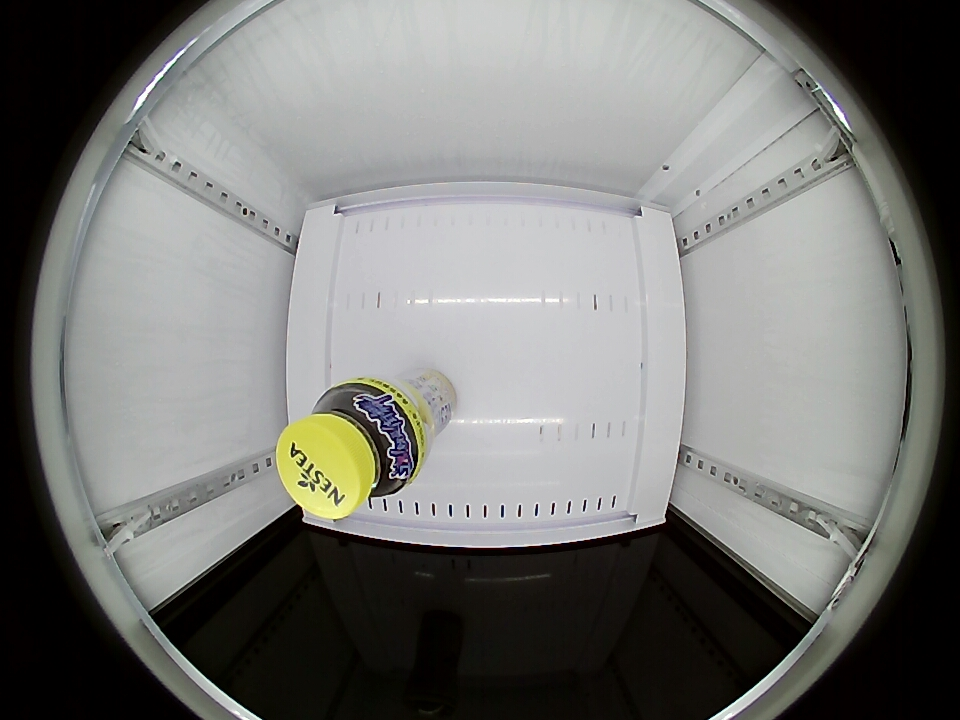chacui: (277, 378, 423, 520)
